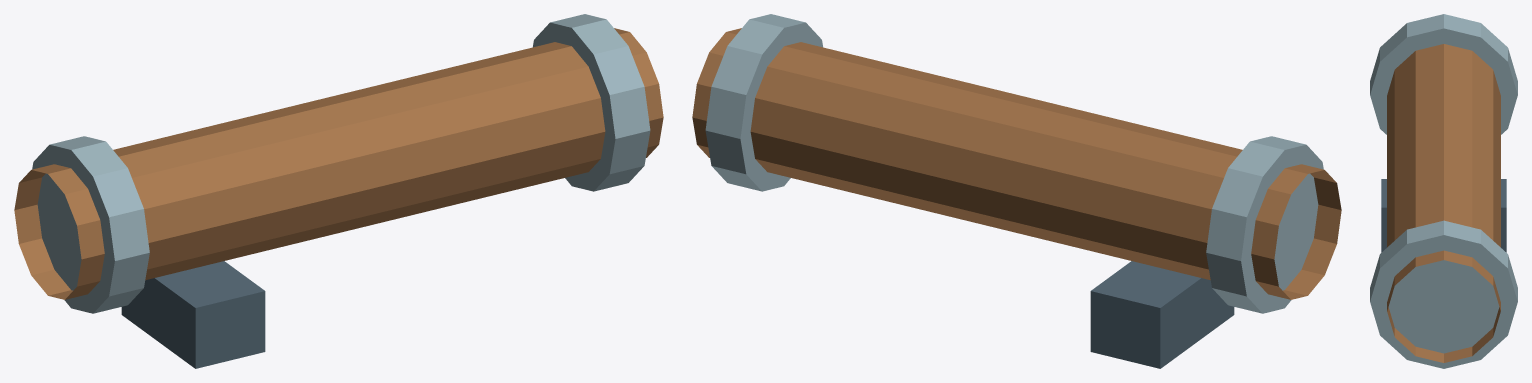
Rendered from pipe_straight.glb.
3 views of the same model, side by side, from view 1: azimuth 30°, elevation 25°; view 2: azimuth 150°, elevation 25°; view 3: azimuth 270°, elevation 25° (orthographic). The views are drawn at different scales.
Parts seen in each view (by area): view 1: Pipe, Coupling, Mount, Coupling.001; view 2: Pipe, Coupling, Mount, Coupling.001; view 3: Pipe, Coupling.001, Coupling, Mount.
Boxes of the visible parts, box(x1,y1,x2,y2) form: Pipe: box(14, 28, 663, 299); Coupling: box(32, 136, 149, 313); Mount: box(121, 261, 265, 368); Coupling.001: box(533, 14, 650, 191); Pipe: box(692, 28, 1341, 299); Coupling: box(1206, 136, 1323, 313); Mount: box(1090, 261, 1234, 368); Coupling.001: box(705, 14, 822, 191); Pipe: box(1387, 44, 1500, 362); Coupling.001: box(1370, 220, 1517, 368); Coupling: box(1370, 14, 1517, 134); Mount: box(1381, 179, 1506, 252).
Bounding box in the file's own units: 2 × 0.7 × 0.52.
